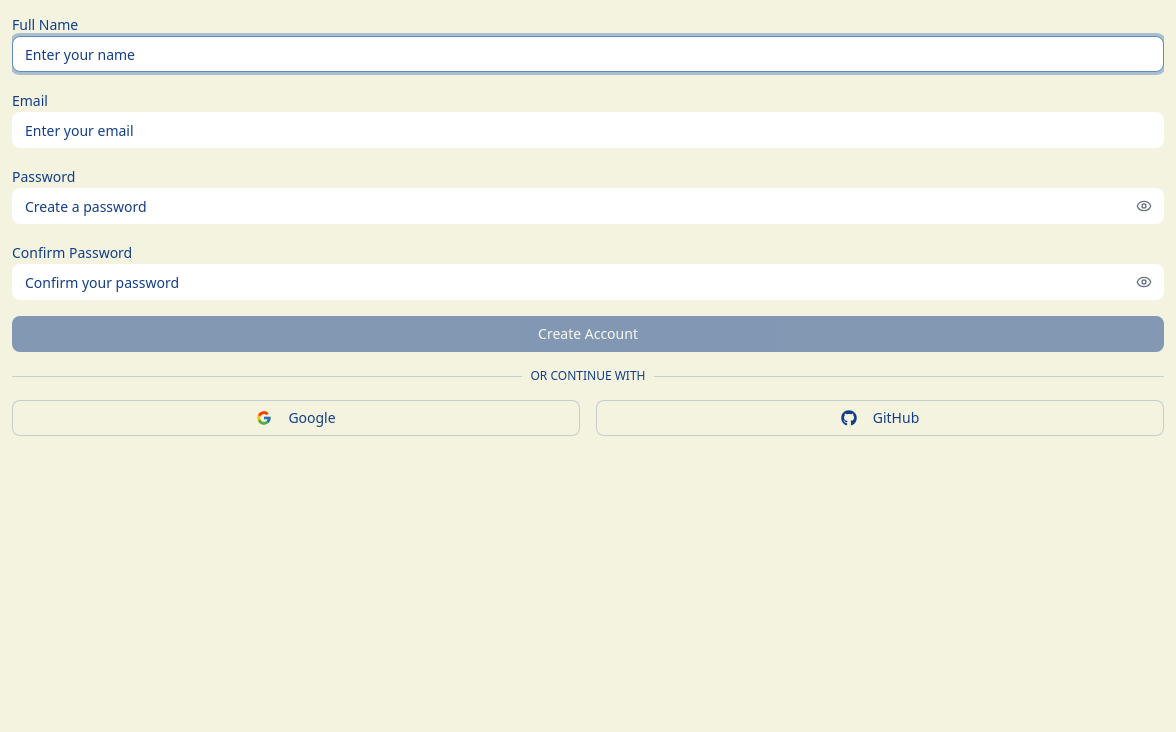
Test: SignupForm Component › form submit displays verification email sent message on success
Type "John Doe" into the field with placeholder "Enter your name" at (588,54), box [12, 36, 1164, 72]
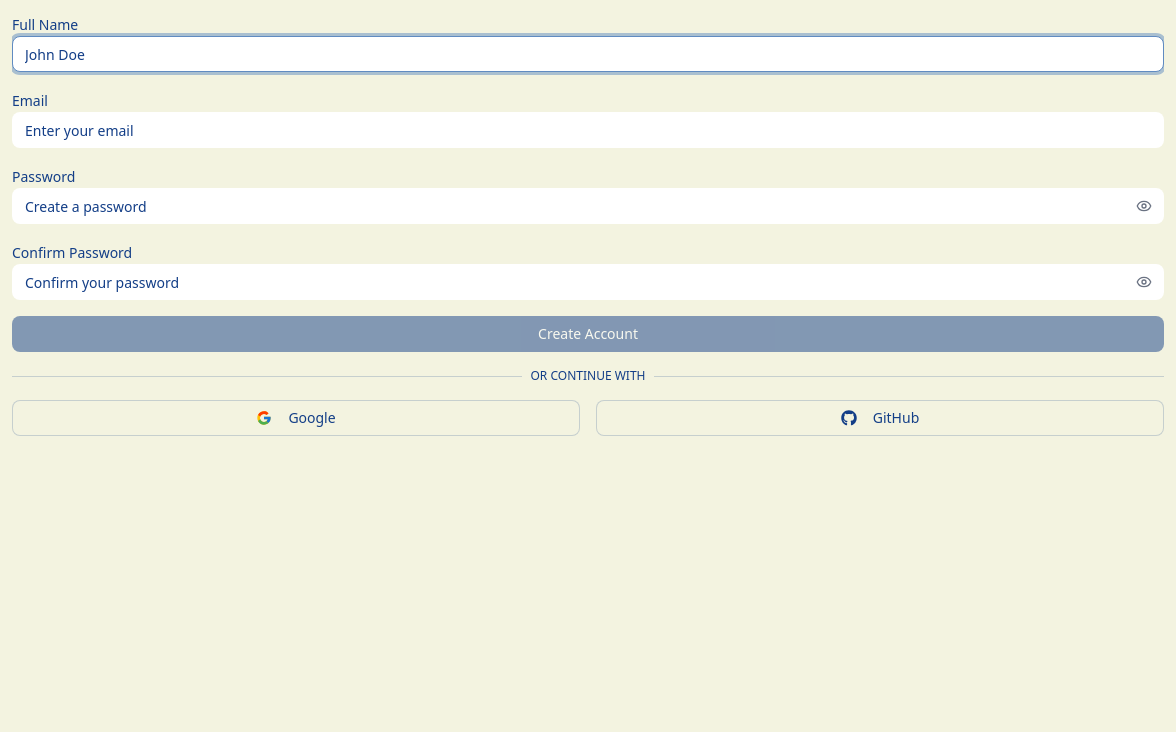
Type "test@example.com" into the field with placeholder "Enter your email" at (588,130), box [12, 112, 1164, 148]
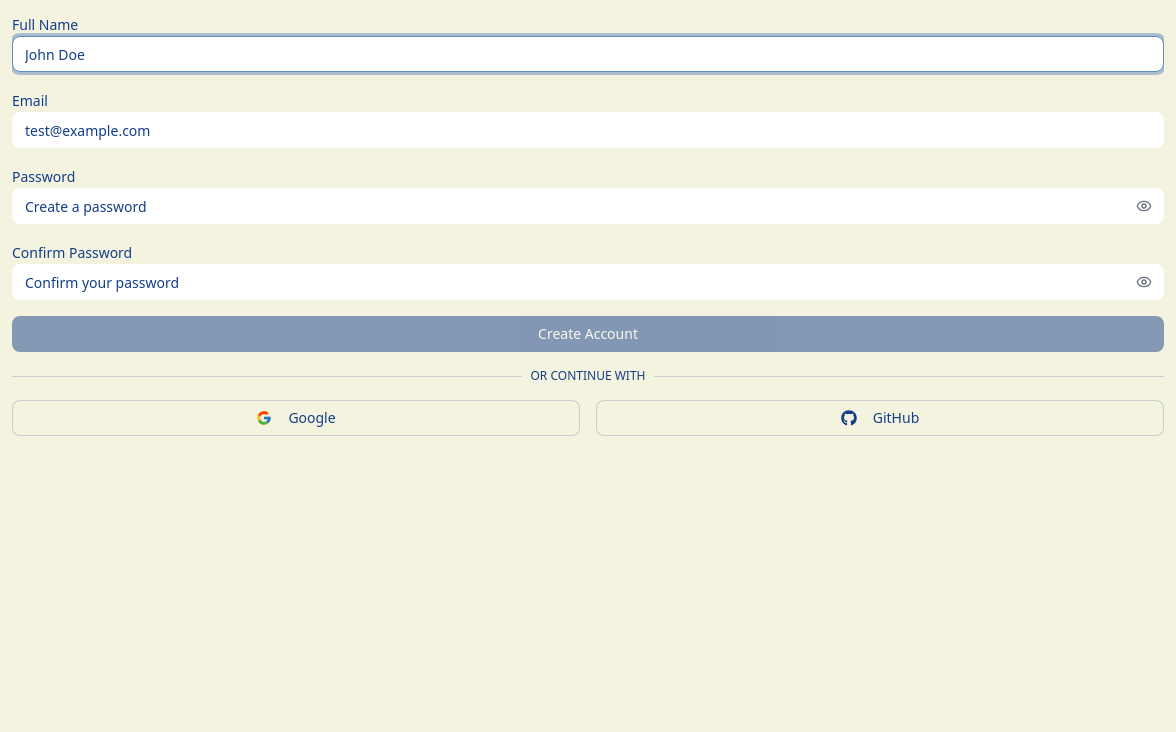
Type "password123" into the password field with placeholder "Create a password" at (588,206), box [12, 188, 1164, 224]
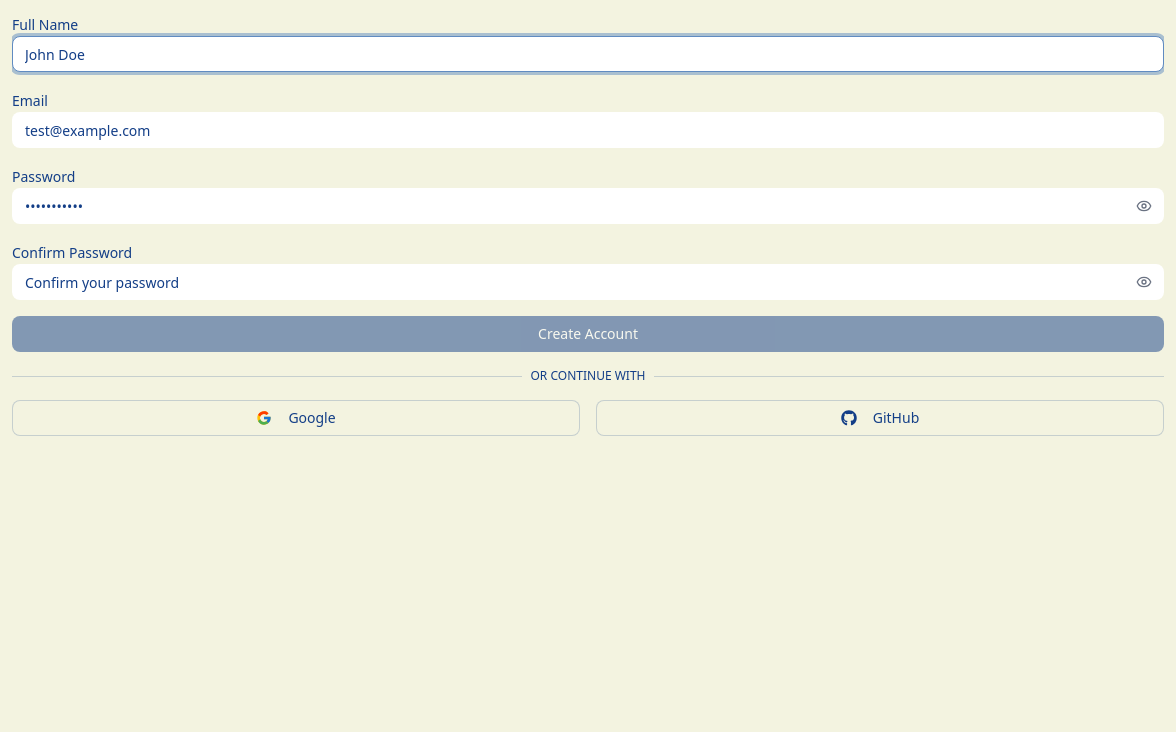
Type "password123" into the password field with placeholder "Confirm your password" at (588,282), box [12, 264, 1164, 300]
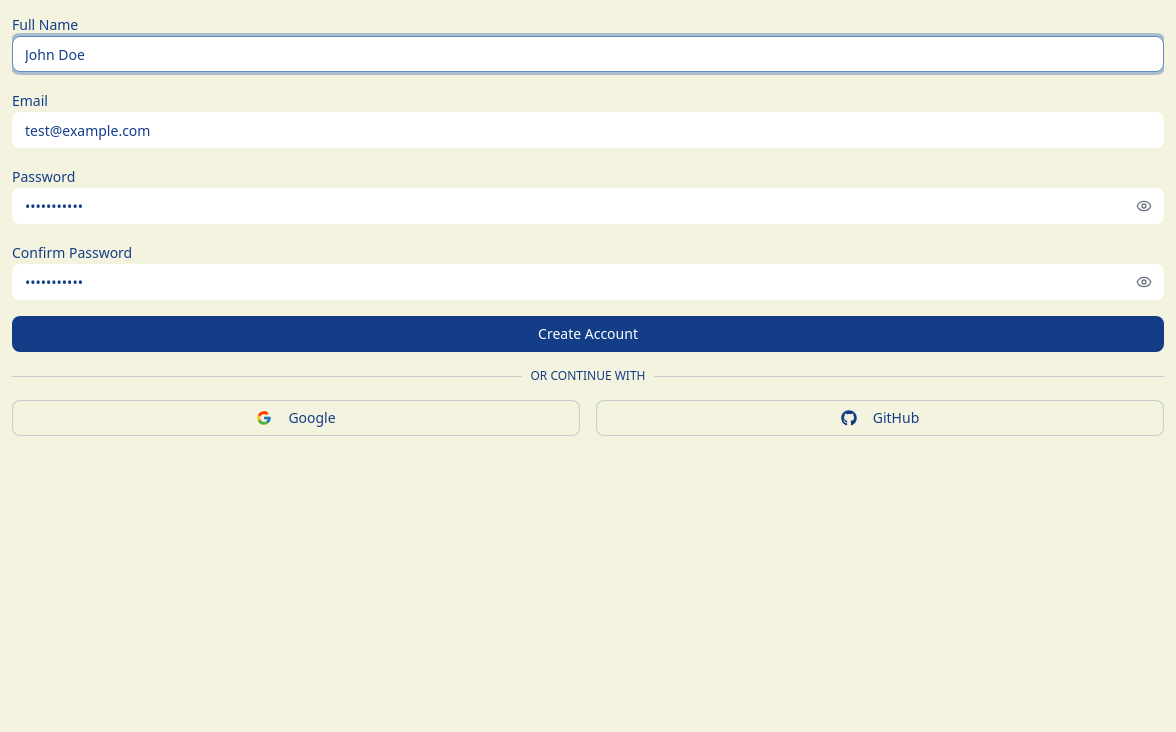
Click the button "Create Account" at (588,334), box [12, 316, 1164, 352]
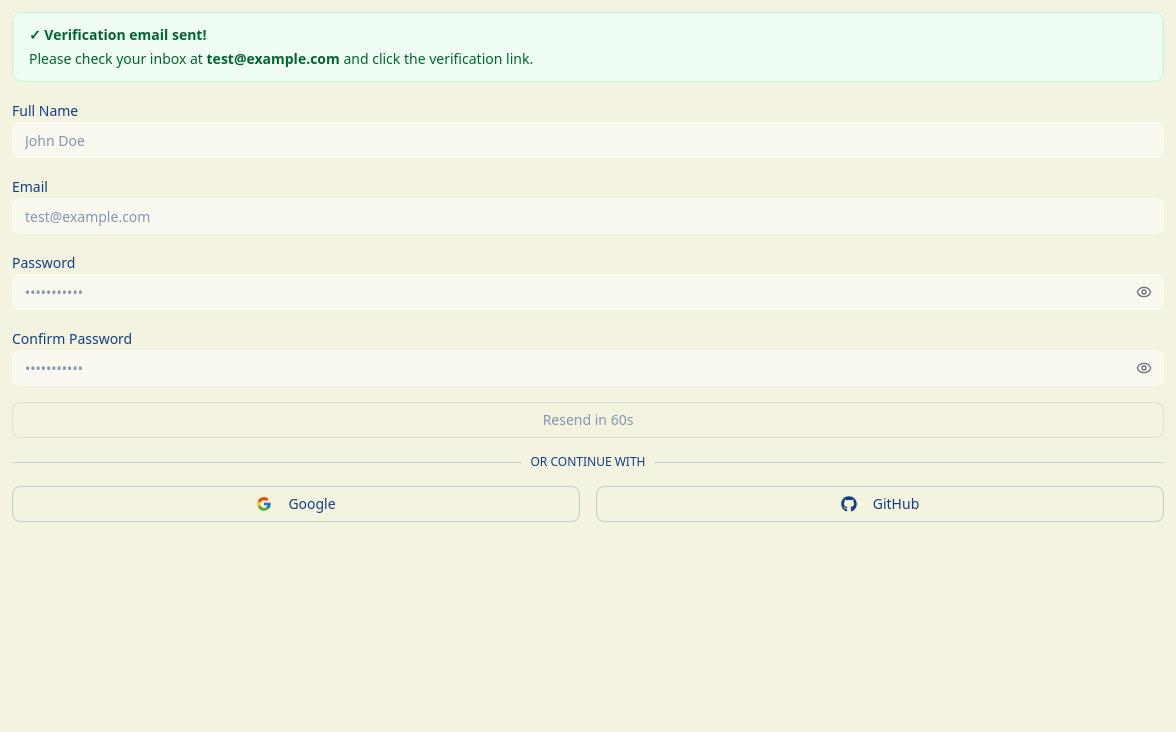
Result: the element that starts with "✓ Verification email sent!" is shown at [29, 25, 206, 44]
Result: the text "test@example.com" is shown at [206, 49, 340, 68]
